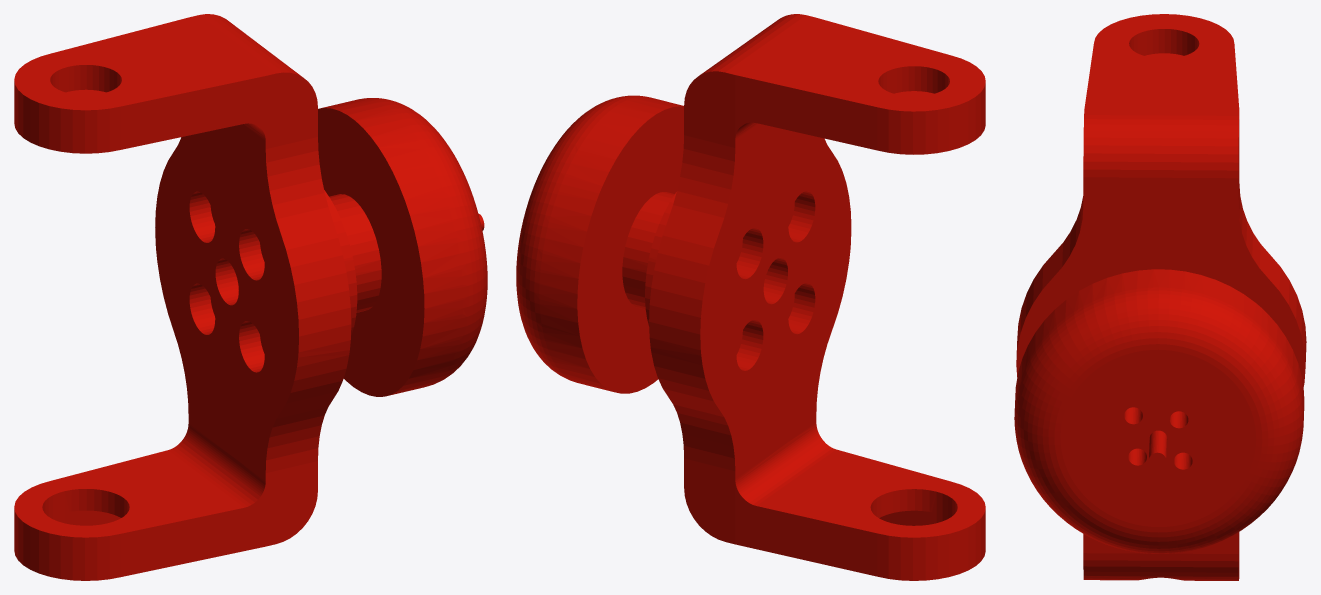
File: right-tilt-mount.obj
3 views of the same model, side by side, from view 1: azimuth 30°, elevation 25°; view 2: azimuth 150°, elevation 25°; view 3: azimuth 270°, elevation 25° (orthographic). The views are drawn at different scales.
Visible parts, largest first — view 1: AvionFull.023; view 2: AvionFull.023; view 3: AvionFull.023.
Boxes of the visible parts, bbox=[...] form: AvionFull.023: bbox=[14, 14, 487, 580]; AvionFull.023: bbox=[516, 14, 985, 580]; AvionFull.023: bbox=[1014, 14, 1306, 580].
Bounding box in the file's own units: 0.4371 × 0.434 × 0.2493.
